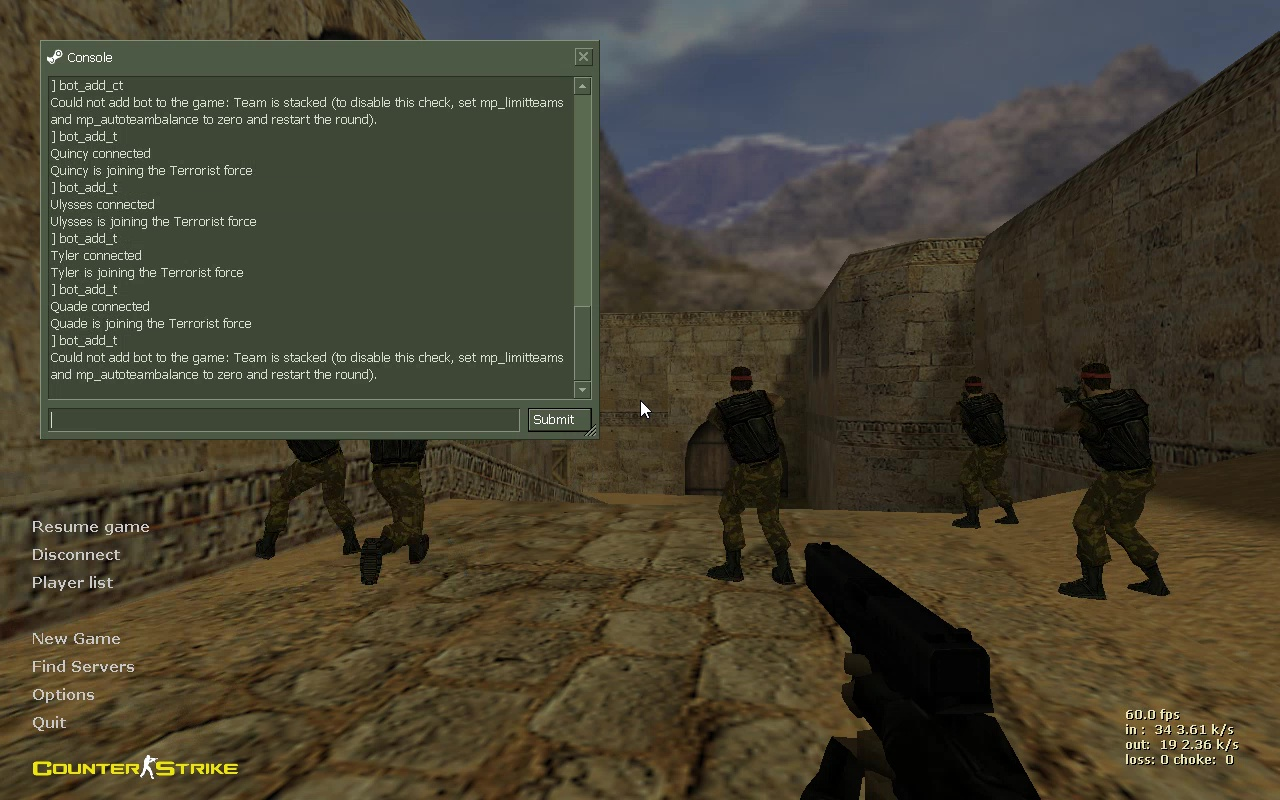terr1: (1052, 364, 1167, 597), (708, 367, 791, 583), (948, 375, 1017, 530)
